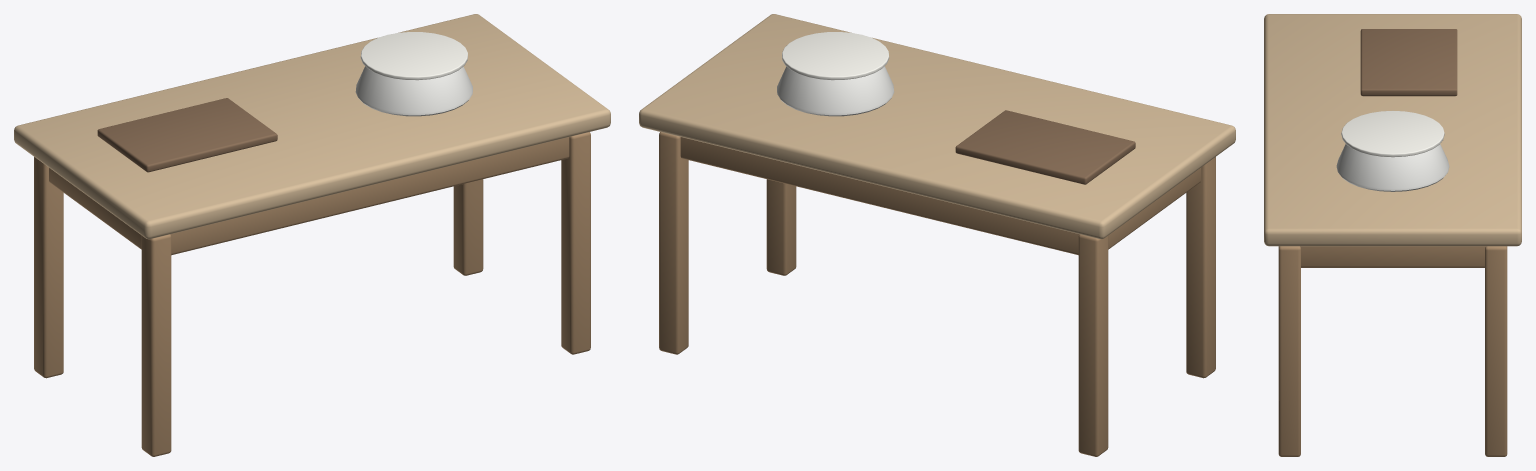
Rendered from Stol.fbx.
3 views of the same model, side by side, from view 1: azimuth 30°, elevation 25°; view 2: azimuth 150°, elevation 25°; view 3: azimuth 270°, elevation 25° (orthographic). The views are drawn at different scales.
Parts seen in each view (by area): view 1: Stol_Korpus; view 2: Stol_Korpus; view 3: Stol_Korpus.
Part boxes in pixels (box(x1,y1,x2,y2)): Stol_Korpus: box(14, 14, 610, 456); Stol_Korpus: box(639, 14, 1235, 456); Stol_Korpus: box(1264, 14, 1521, 456).
Bounding box in the file's own units: 160 × 92.6 × 80.
